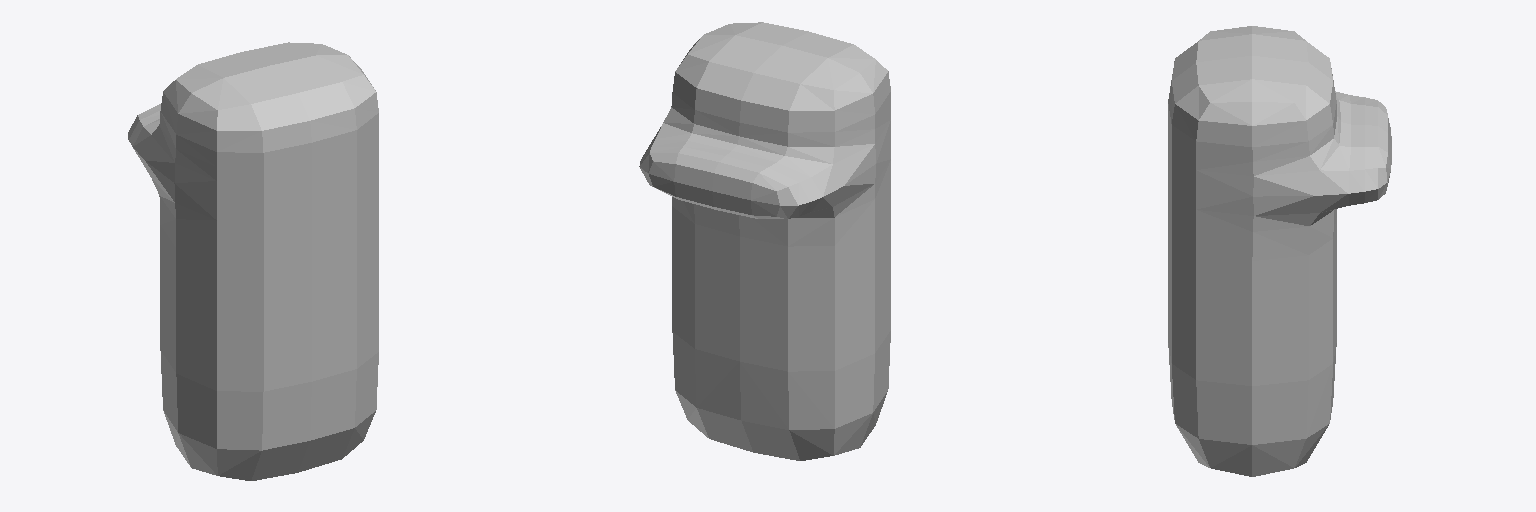
File: player.obj
The picture shows the model from 3 angles: view 1: azimuth 30°, elevation 25°; view 2: azimuth 150°, elevation 25°; view 3: azimuth 270°, elevation 25°; orthographic projection.
Parts seen in each view (by area): view 1: 立方体; view 2: 立方体; view 3: 立方体.
Boxes of the visible parts, <box> form: 立方体: <box>128,42,378,480</box>; 立方体: <box>639,22,890,460</box>; 立方体: <box>1168,26,1391,476</box>.
Bounding box in the file's own units: 0.9731 × 1.97 × 0.9948.